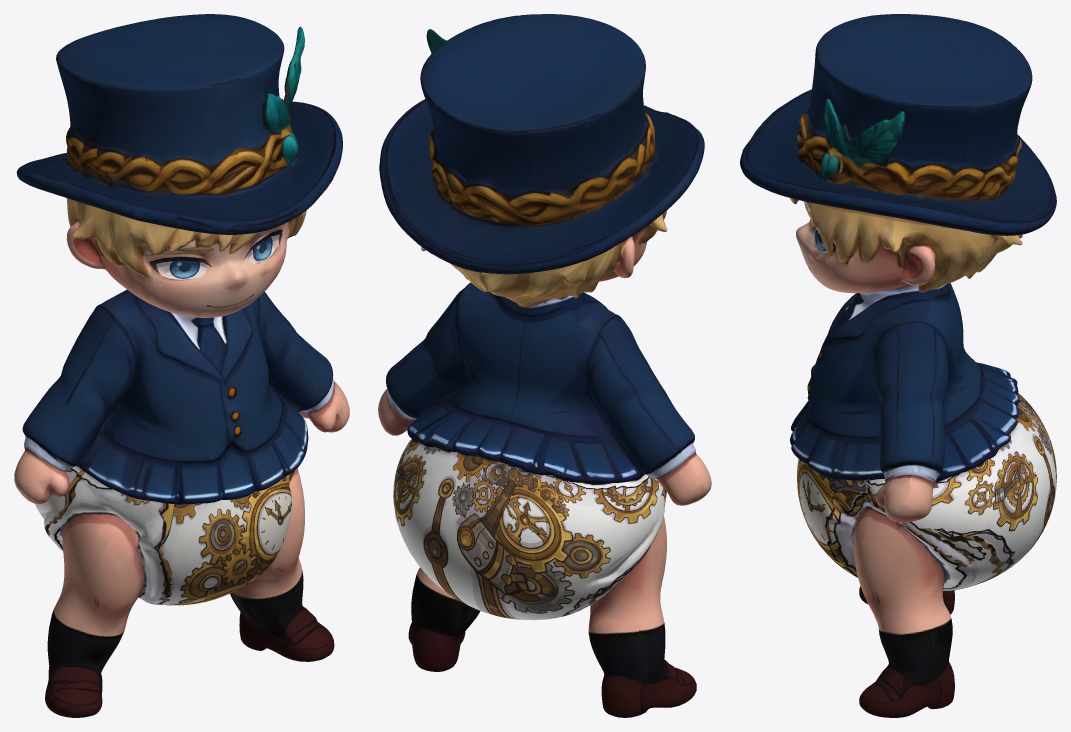
The model's file is staldoll.glb.
3 views of the same model, side by side, from view 1: azimuth 30°, elevation 25°; view 2: azimuth 150°, elevation 25°; view 3: azimuth 270°, elevation 25° (orthographic). The views are drawn at different scales.
Visible parts, largest first — view 1: temp_mesh.ply; view 2: temp_mesh.ply; view 3: temp_mesh.ply.
Boxes of the visible parts, <box> form: temp_mesh.ply: <box>14,14,349,717</box>; temp_mesh.ply: <box>378,14,711,717</box>; temp_mesh.ply: <box>740,14,1056,717</box>.
Bounding box in the file's own units: 2.4 × 4.39 × 2.08.
Materials: 3 (3 with a texture image).
